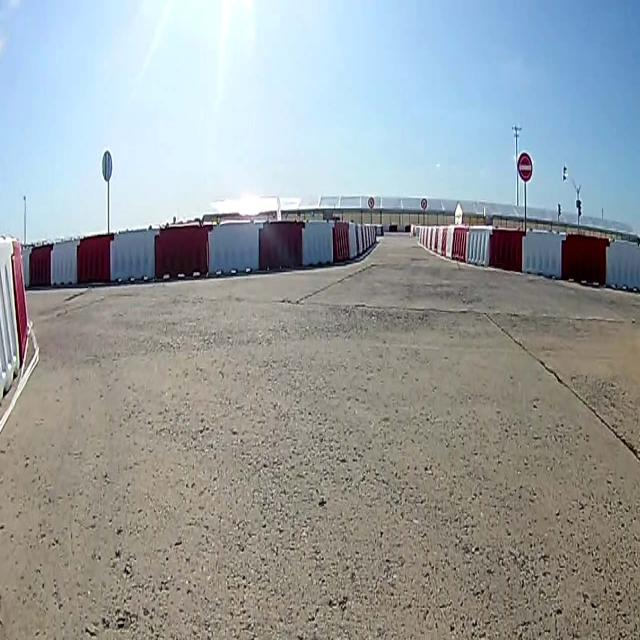girisyok: (517, 150, 534, 184)
